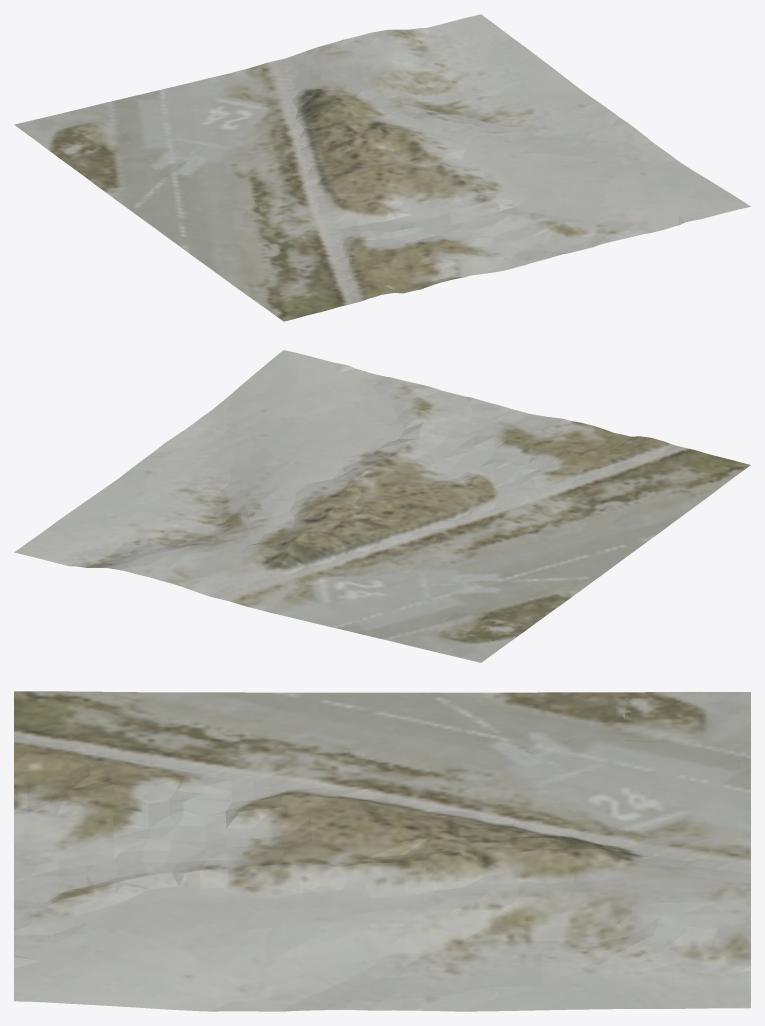
3 renders of one model, top to bottom at view 1: azimuth 30°, elevation 25°; view 2: azimuth 150°, elevation 25°; view 3: azimuth 270°, elevation 25°, orthographic. The views are drawn at different scales.
Bounding box in the file's own units: 104 × 3.6 × 104.
3 materials, 3 textured.
